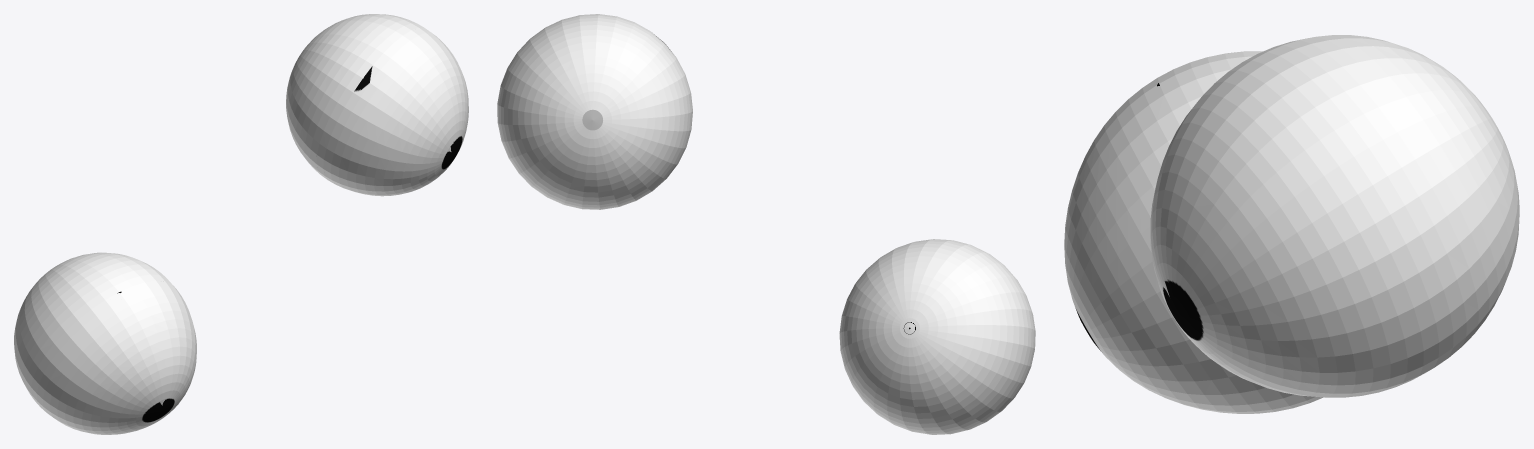
3 views of the same model, side by side, from view 1: azimuth 30°, elevation 25°; view 2: azimuth 150°, elevation 25°; view 3: azimuth 270°, elevation 25° (orthographic). The views are drawn at different scales.
Visible parts, largest first — view 1: Group1; view 2: Group1; view 3: Group1.
Boxes of the visible parts, x1,y1,x2,y2 form: Group1: (14, 14, 468, 434); Group1: (497, 14, 1035, 434); Group1: (1064, 35, 1519, 413).
Bounding box in the file's own units: 0.12 × 0.0803 × 0.0525.
